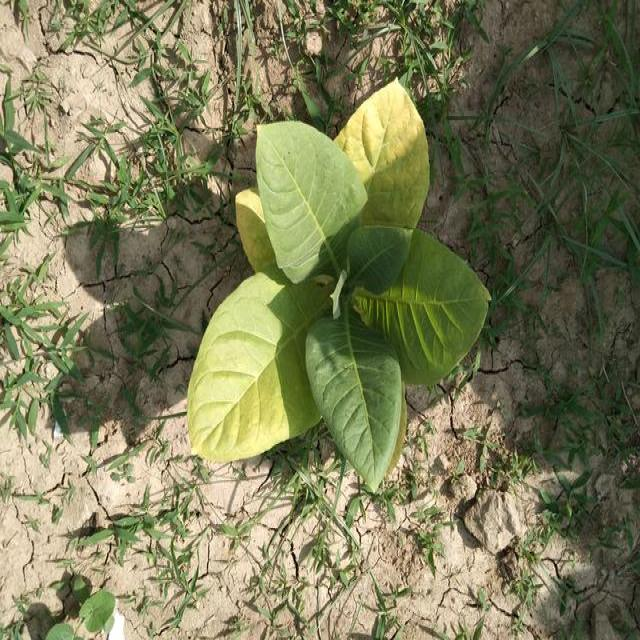crop: (182, 66, 493, 496)
